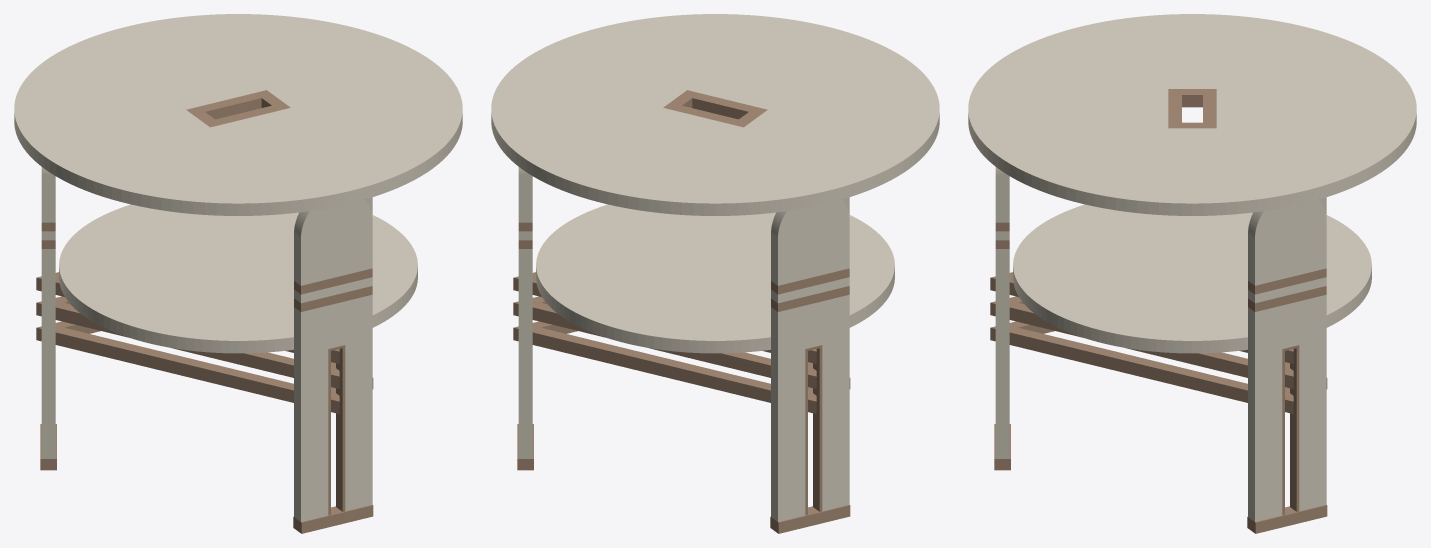
3 renders of one model, left to right at view 1: azimuth 30°, elevation 25°; view 2: azimuth 150°, elevation 25°; view 3: azimuth 270°, elevation 25°, orthographic.
Visible parts, largest first — view 1: P01 Upper circular maple top with grip recess, P06 Lower circular maple shelf — no opening, P21 Arched blade 270 / maple segment 1, P23 Arched blade 270 / maple segment 3, P35 Triangle level 3 beam 2, P14 Arched blade 150 / maple segment 1, P32 Triangle level 2 beam 2, P25 Slot jamb 270 / 1, P27 Foot shoe 270, P02 Grip mitred strip north, P16 Arched blade 150 / maple segment 3, P41 Upper transition band 270 / 1 (+2 smaller); view 2: P01 Upper circular maple top with grip recess, P06 Lower circular maple shelf — no opening, P14 Arched blade 150 / maple segment 1, P16 Arched blade 150 / maple segment 3, P34 Triangle level 3 beam 1, P07 Arched blade 30 / maple segment 1, P31 Triangle level 2 beam 1, P18 Slot jamb 150 / 1, P20 Foot shoe 150, P03 Grip mitred strip south, P09 Arched blade 30 / maple segment 3, P39 Upper transition band 150 / 1 (+2 smaller); view 3: P01 Upper circular maple top with grip recess, P06 Lower circular maple shelf — no opening, P07 Arched blade 30 / maple segment 1, P09 Arched blade 30 / maple segment 3, P36 Triangle level 3 beam 3, P21 Arched blade 270 / maple segment 1, P33 Triangle level 2 beam 3, P11 Slot jamb 30 / 1, P13 Foot shoe 30, P23 Arched blade 270 / maple segment 3, P37 Upper transition band 30 / 1, P08 Arched blade 30 / maple segment 2 (+1 smaller).
Part boxes in pixels (x1,y1,x2,y2): P01 Upper circular maple top with grip recess: [14, 14, 462, 215]; P06 Lower circular maple shelf — no opening: [59, 204, 417, 353]; P21 Arched blade 270 / maple segment 1: [294, 294, 372, 521]; P23 Arched blade 270 / maple segment 3: [294, 199, 372, 285]; P35 Triangle level 3 beam 2: [36, 327, 339, 413]; P14 Arched blade 150 / maple segment 1: [41, 249, 55, 458]; P32 Triangle level 2 beam 2: [36, 302, 339, 388]; P25 Slot jamb 270 / 1: [336, 347, 345, 511]; P27 Foot shoe 270: [293, 505, 373, 533]; P02 Grip mitred strip north: [187, 90, 266, 119]; P16 Arched blade 150 / maple segment 3: [41, 167, 55, 222]; P41 Upper transition band 270 / 1: [294, 268, 372, 294]; P01 Upper circular maple top with grip recess: [491, 14, 939, 215]; P06 Lower circular maple shelf — no opening: [536, 204, 894, 353]; P14 Arched blade 150 / maple segment 1: [771, 294, 849, 521]; P16 Arched blade 150 / maple segment 3: [771, 199, 849, 285]; P34 Triangle level 3 beam 1: [513, 327, 816, 413]; P07 Arched blade 30 / maple segment 1: [518, 249, 532, 458]; P31 Triangle level 2 beam 1: [513, 302, 816, 388]; P18 Slot jamb 150 / 1: [813, 347, 822, 511]; P20 Foot shoe 150: [770, 505, 850, 533]; P03 Grip mitred strip south: [687, 90, 766, 119]; P09 Arched blade 30 / maple segment 3: [518, 167, 532, 222]; P39 Upper transition band 150 / 1: [771, 268, 849, 294]; P01 Upper circular maple top with grip recess: [968, 14, 1416, 215]; P06 Lower circular maple shelf — no opening: [1013, 204, 1371, 353]; P07 Arched blade 30 / maple segment 1: [1248, 294, 1326, 521]; P09 Arched blade 30 / maple segment 3: [1248, 199, 1326, 285]; P36 Triangle level 3 beam 3: [990, 327, 1293, 413]; P21 Arched blade 270 / maple segment 1: [995, 249, 1009, 458]; P33 Triangle level 2 beam 3: [990, 302, 1293, 388]; P11 Slot jamb 30 / 1: [1290, 347, 1299, 511]; P13 Foot shoe 30: [1247, 505, 1327, 533]; P23 Arched blade 270 / maple segment 3: [995, 167, 1009, 222]; P37 Upper transition band 30 / 1: [1248, 268, 1326, 294]; P08 Arched blade 30 / maple segment 2: [1248, 277, 1326, 303].
Bounding box in the file's own units: 0.65 × 0.55 × 0.6498.
